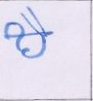ai_matra: (19, 7, 49, 31)
